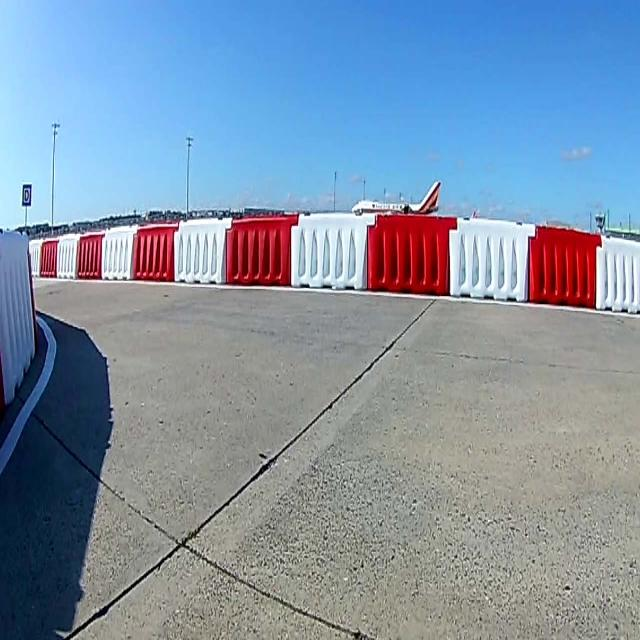durak: (22, 185, 30, 205)
